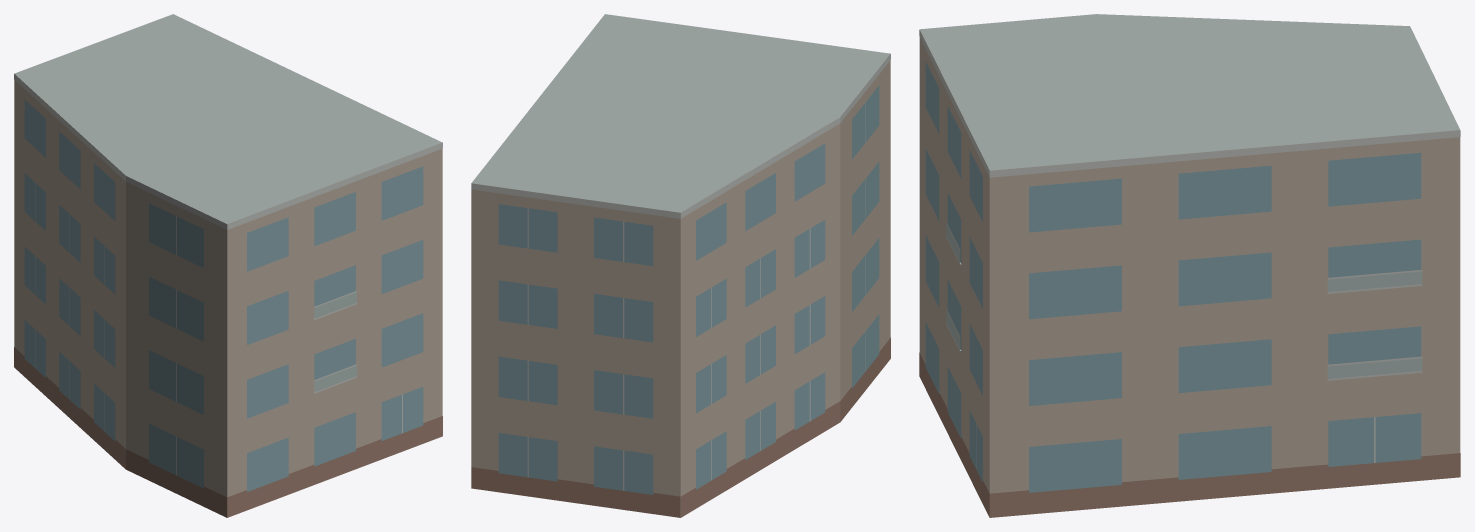
File: survey-upis-32720037.glb
3 views of the same model, side by side, from view 1: azimuth 30°, elevation 25°; view 2: azimuth 150°, elevation 25°; view 3: azimuth 270°, elevation 25° (orthographic). The views are drawn at different scales.
Parts seen in each view (by area): view 1: survey-upis-32720037.tmp; view 2: survey-upis-32720037.tmp; view 3: survey-upis-32720037.tmp.
Boxes of the visible parts, x1=… form: survey-upis-32720037.tmp: x1=14, y1=14, x2=442, y2=517; survey-upis-32720037.tmp: x1=471, y1=14, x2=890, y2=517; survey-upis-32720037.tmp: x1=919, y1=14, x2=1460, y2=517.
Size of the model in its own units: 11.82 by 12.2 by 17.24.
